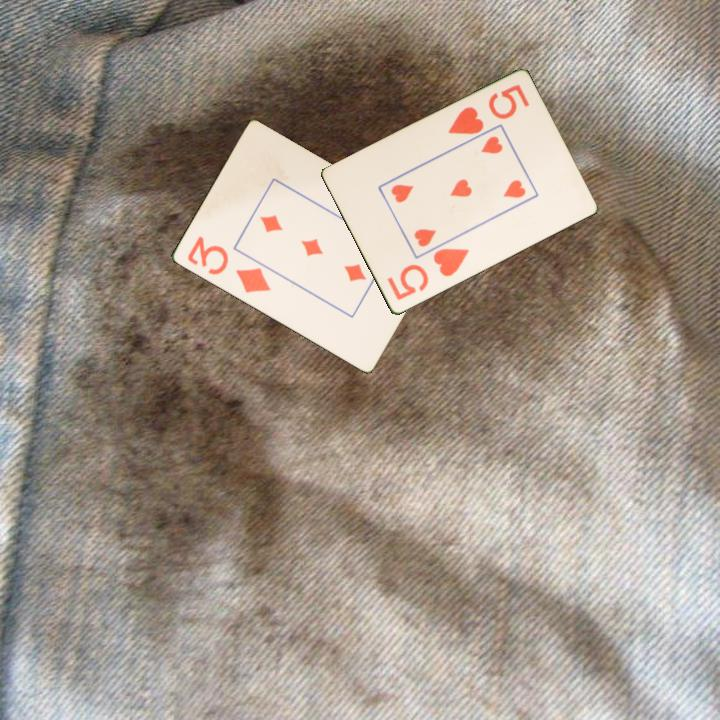3d: (183, 233, 273, 296)
5h: (383, 245, 472, 304), (444, 81, 532, 138)
